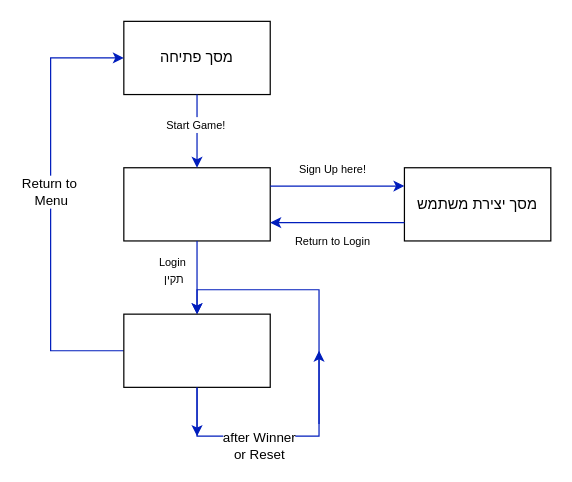
Some shapes in this 572 by 482 pixel diagram are drawn without their labels. The shapes that lost their labels are listed below. From the top down, each one's centre as x and y in pixels, then its label:
(x=196, y=204): מסך הכנסת משתמש
(x=196, y=350): מסך המשחק הראשי
